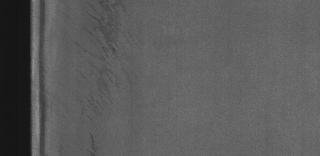water spot: (78, 2, 134, 120)
